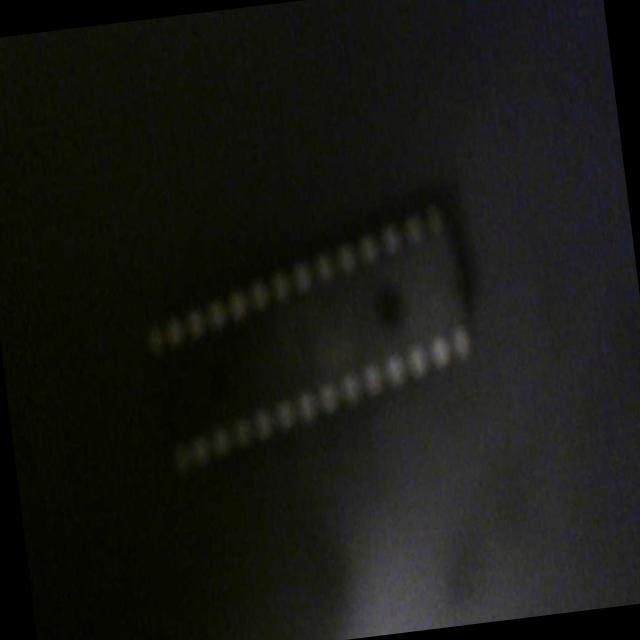atmega: (126, 170, 498, 484)
